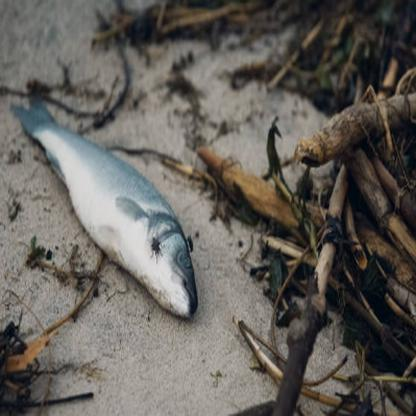deceased fish: (17, 88, 198, 322)
